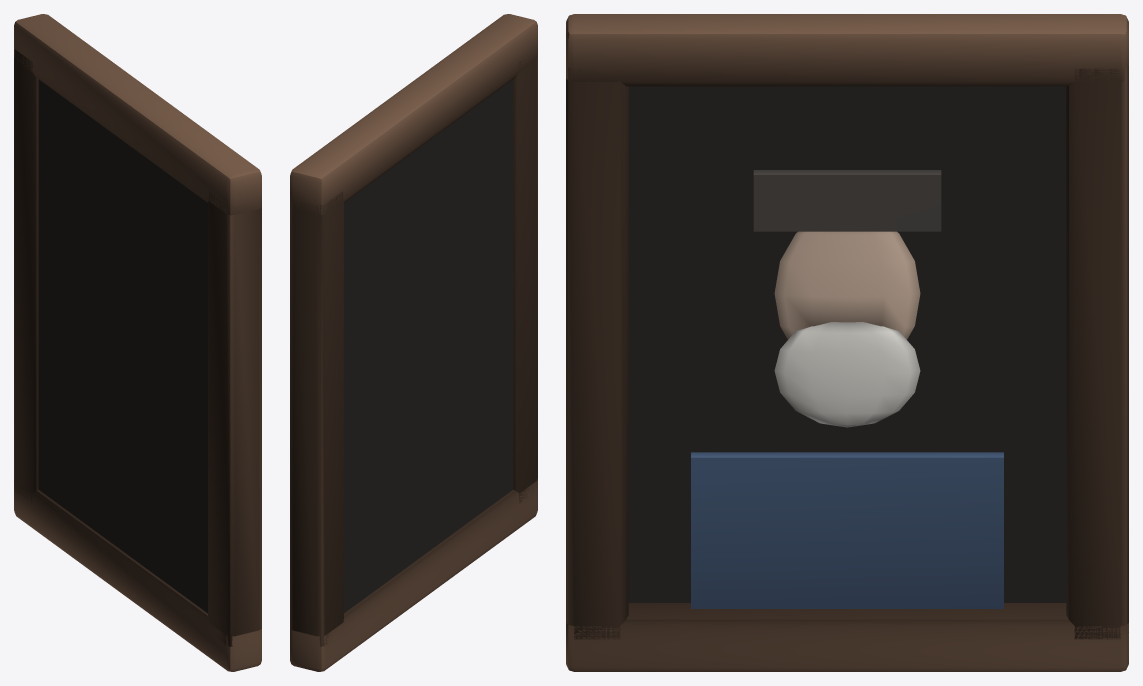
Rendered from pic_captain.glb.
3 views of the same model, side by side, from view 1: azimuth 30°, elevation 25°; view 2: azimuth 150°, elevation 25°; view 3: azimuth 270°, elevation 25° (orthographic). The views are drawn at different scales.
Visible parts, largest first — view 1: boat_paint_dark, boat_darkwood; view 2: boat_paint_dark, boat_darkwood; view 3: boat_paint_dark, boat_darkwood, boat_marlinb, boat_paint_skin, boat_paint_white.
Boxes of the visible parts, x1,y1,x2,y2 form: boat_paint_dark: (38, 79, 207, 613); boat_darkwood: (14, 14, 261, 671); boat_paint_dark: (344, 79, 513, 613); boat_darkwood: (290, 14, 537, 671); boat_paint_dark: (628, 86, 1066, 602); boat_darkwood: (566, 14, 1128, 671); boat_marlinb: (691, 452, 1003, 608); boat_paint_skin: (774, 231, 920, 339); boat_paint_white: (774, 322, 920, 427).
Bounding box in the file's own units: 0.05 × 0.68 × 0.54.
